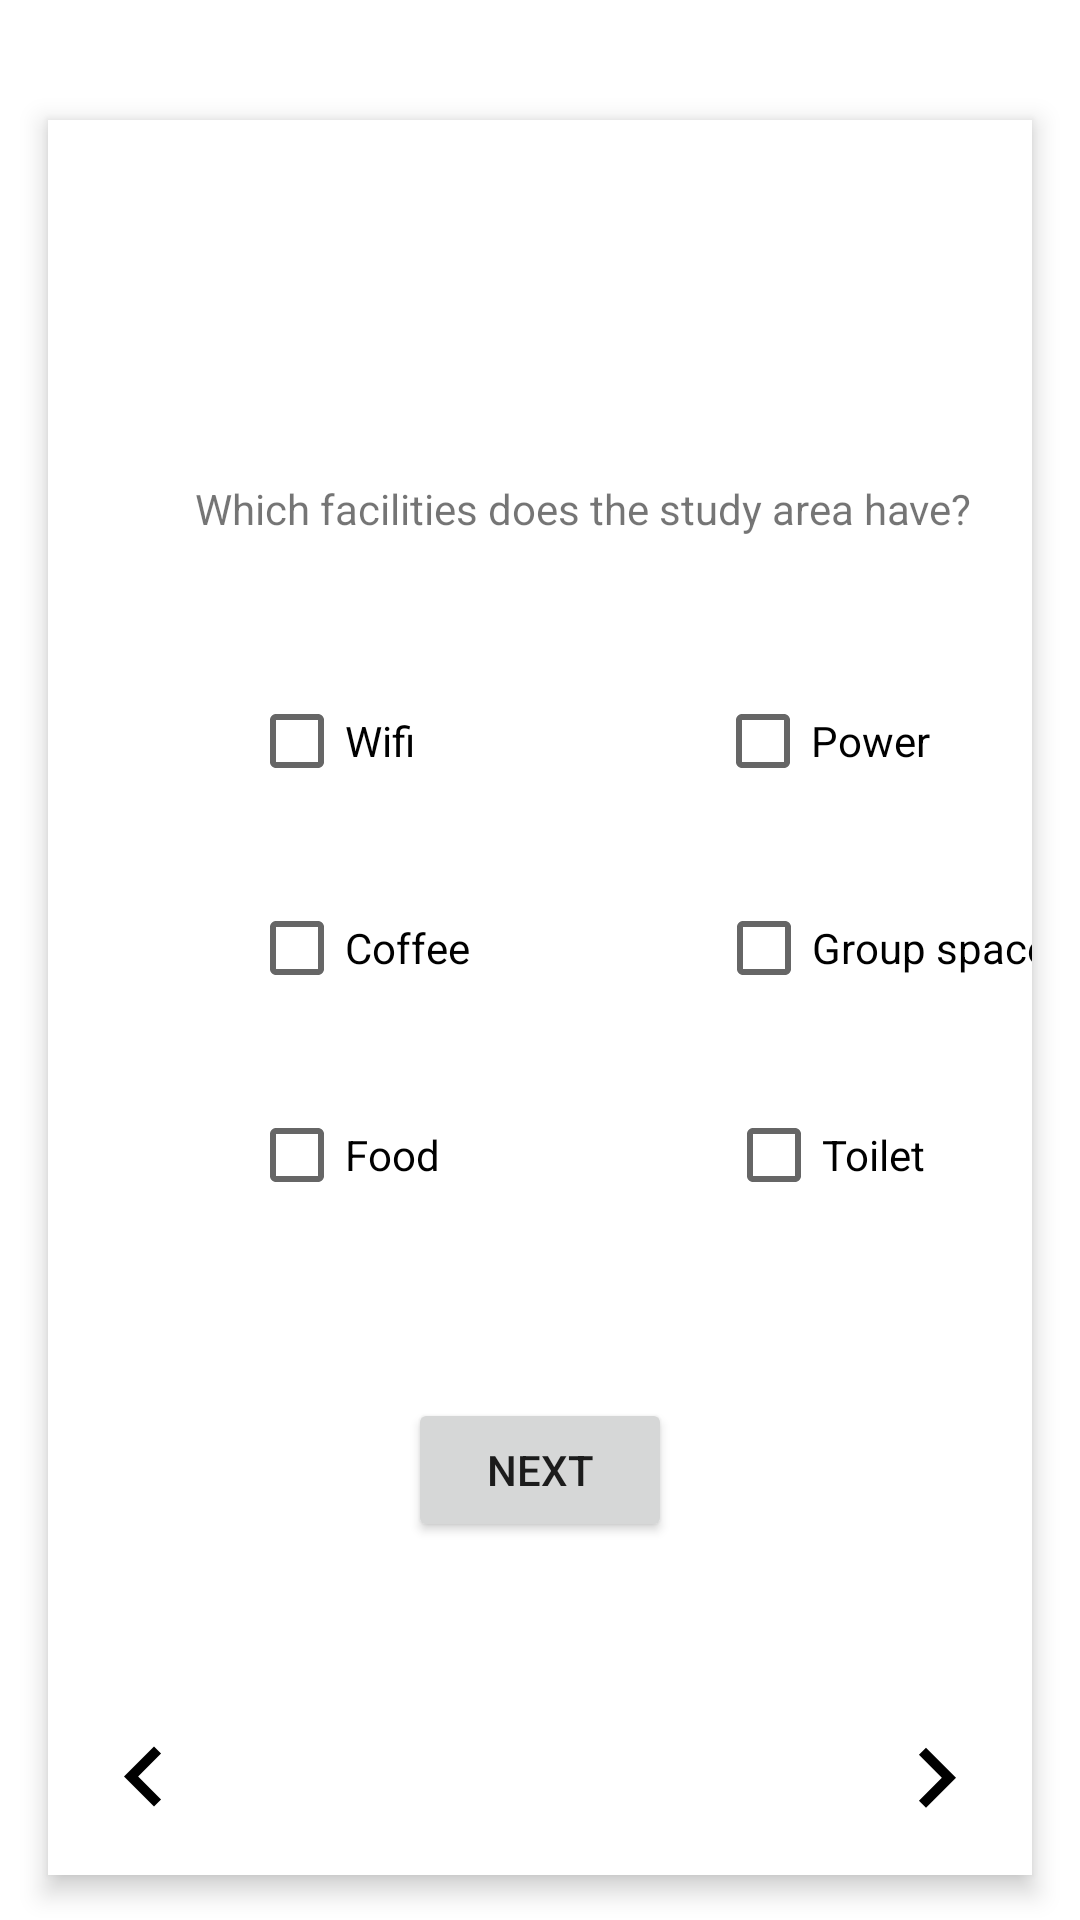

Screen size 1080x1920. Icon name, then its box in pixels as (x1=x1, y1=y1, x2=x2, y2=y2):
keyboard arrow left: (x1=124, y1=1746, x2=161, y2=1807)
keyboard arrow right: (x1=919, y1=1748, x2=956, y2=1808)
